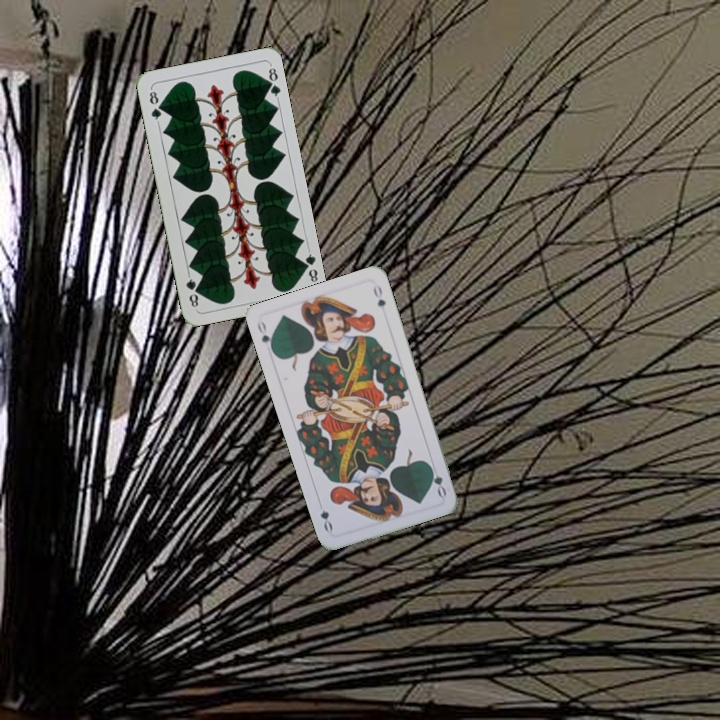G8: (297, 246, 321, 286), (145, 85, 164, 125)
GO: (425, 460, 449, 500), (253, 317, 277, 356)
